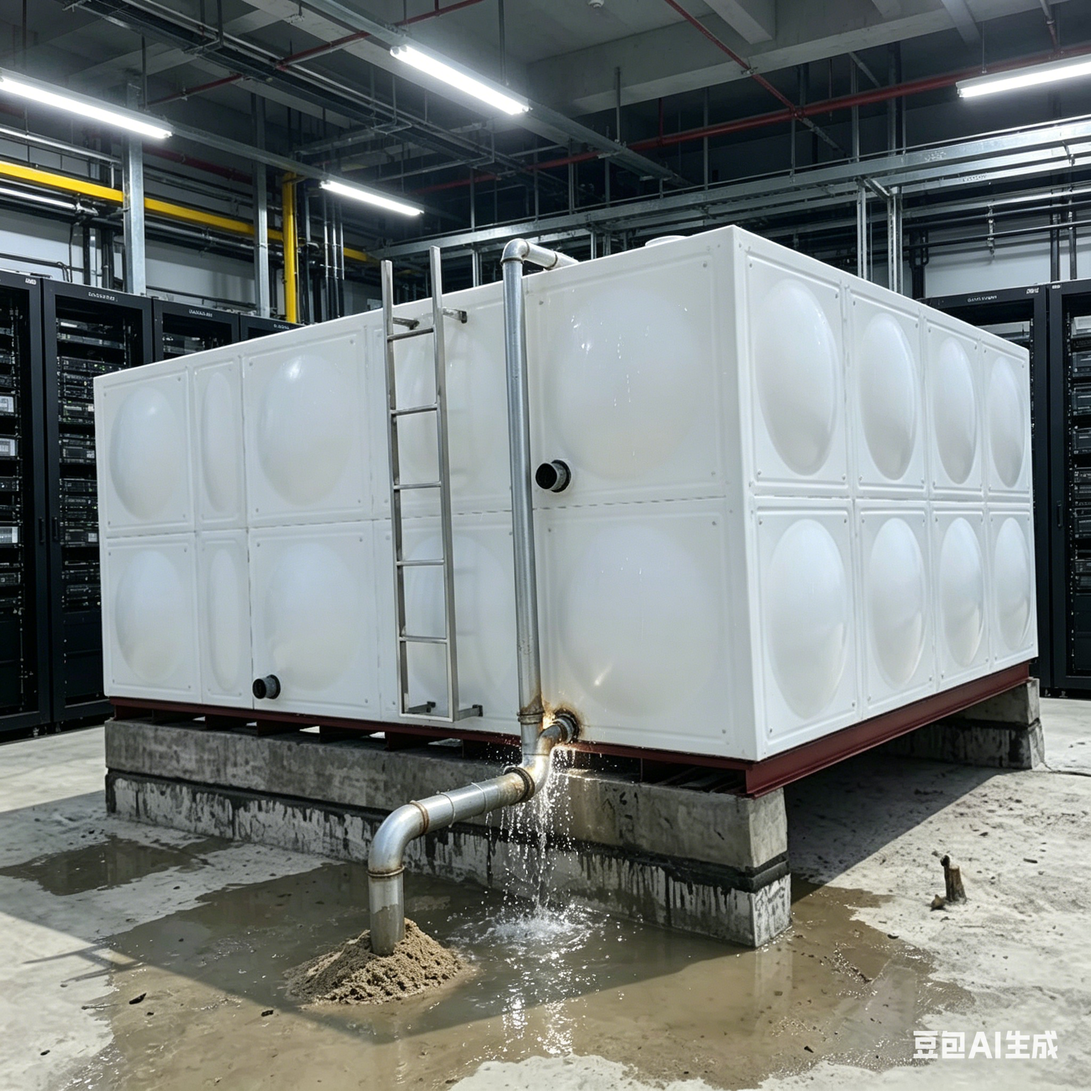Leakage: (140, 913, 473, 1091), (628, 908, 935, 1071), (473, 696, 612, 1055), (255, 854, 463, 902), (34, 842, 187, 890)
